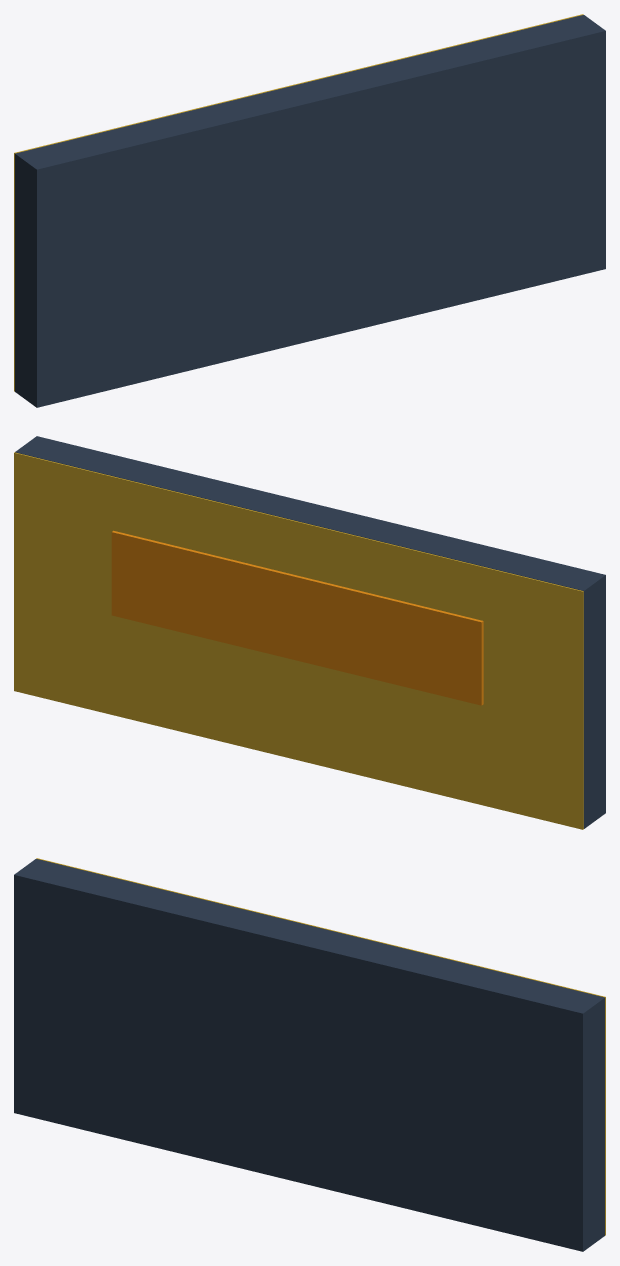
Rendered from Mica hút nổi ngôi sao búa liềm.obj.
3 views of the same model, one above another, from view 1: azimuth 30°, elevation 25°; view 2: azimuth 150°, elevation 25°; view 3: azimuth 330°, elevation 25° (orthographic).
Visible parts, largest first — view 1: Khung_Ket_Cau, Vien_Kim_Loai_Nẹp; view 2: Vien_Kim_Loai_Nẹp, Chu_Noi_3D_Logo, Khung_Ket_Cau; view 3: Khung_Ket_Cau, Vien_Kim_Loai_Nẹp.
Part boxes in pixels (box(x1,y1,x2,y2)): Khung_Ket_Cau: box(15, 15, 605, 407); Vien_Kim_Loai_Nẹp: box(14, 14, 583, 391); Vien_Kim_Loai_Nẹp: box(14, 452, 583, 829); Chu_Noi_3D_Logo: box(111, 530, 483, 705); Khung_Ket_Cau: box(15, 436, 605, 828); Khung_Ket_Cau: box(14, 859, 604, 1251); Vien_Kim_Loai_Nẹp: box(36, 858, 605, 1235).
Bounding box in the file's own units: 3 × 1.2 × 0.226.
